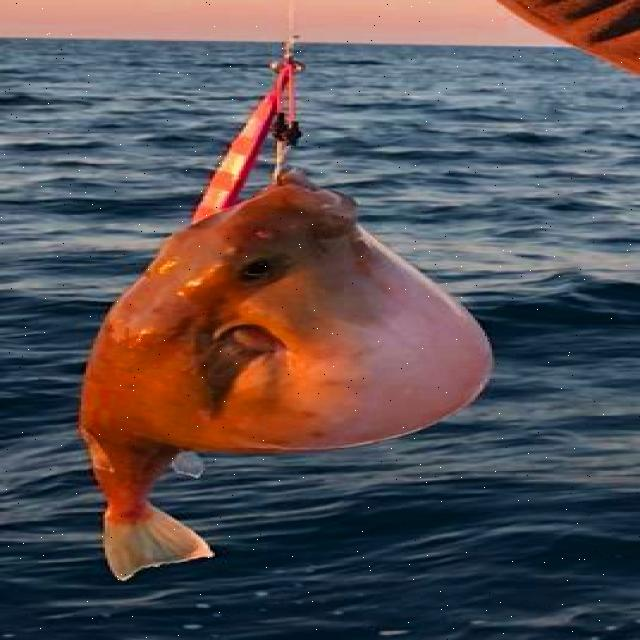Balik: (82, 172, 491, 579)
